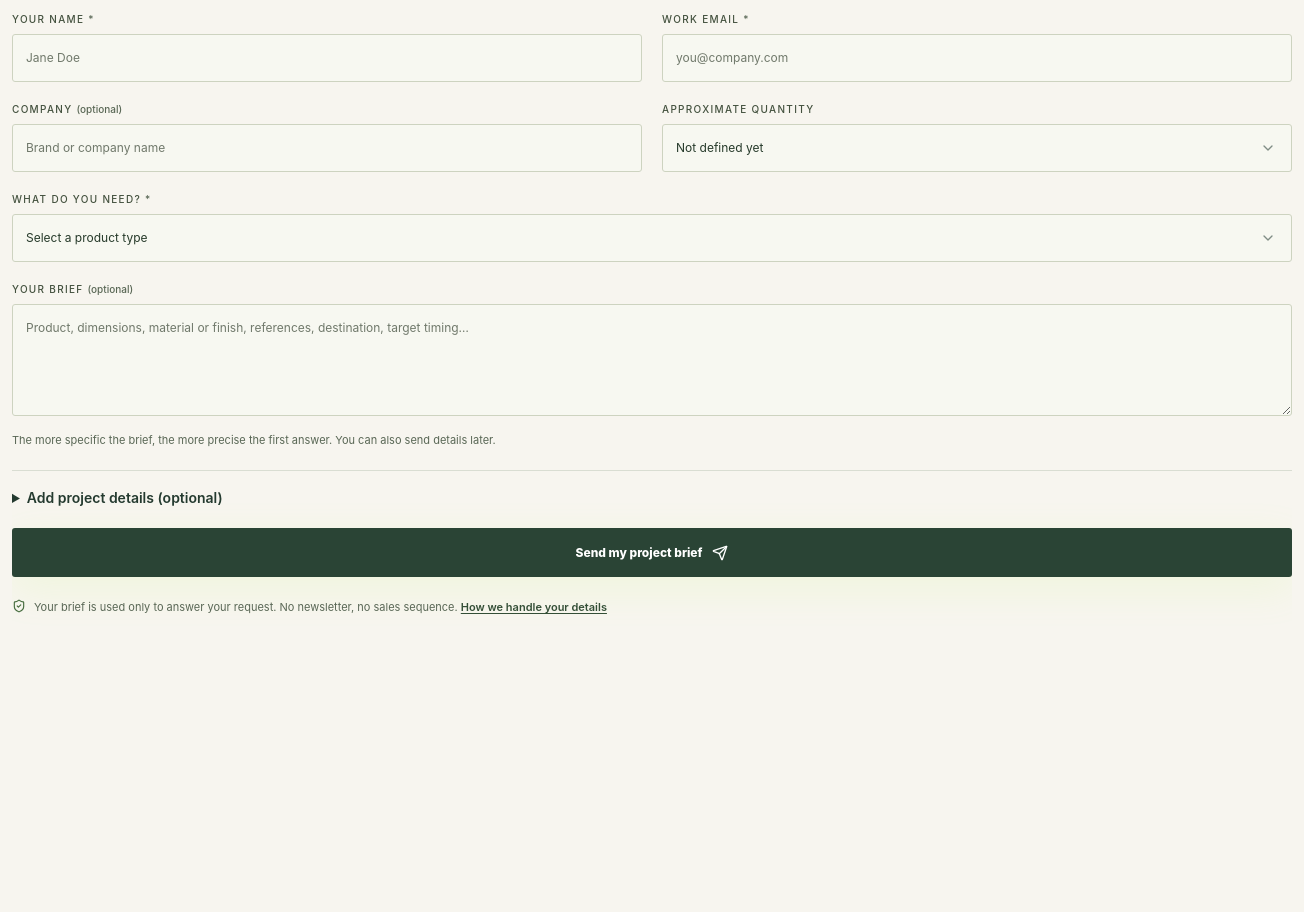
Test: ContactForm › blocks submission and shows field errors when required details are missing
Click the button "Send my project brief". click: {"x": 652, "y": 552}
box: x1=12 y1=528 x2=1292 y2=577
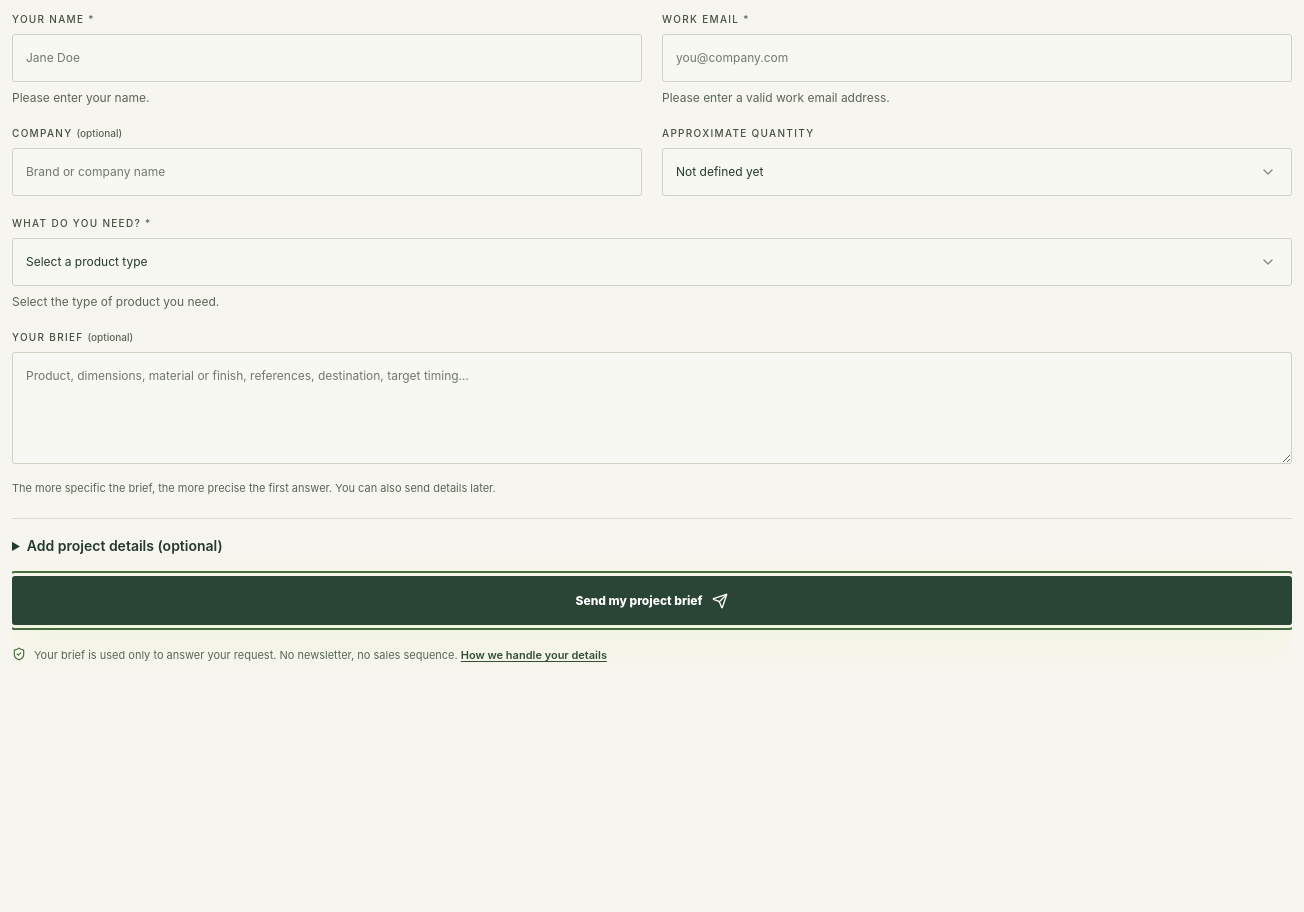
Expected: the text "Please enter your name." is shown, x1=12 y1=90 x2=149 y2=105
